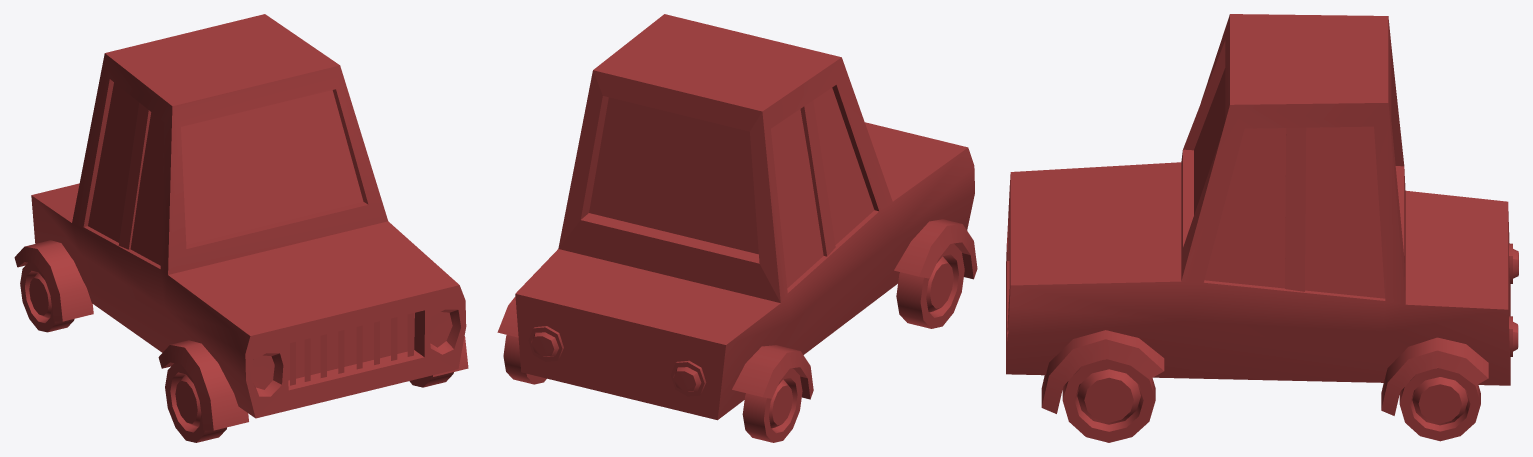
Rendered from Toy_Car03_001.fbx.
The picture shows the model from 3 angles, left to right: view 1: azimuth 30°, elevation 25°; view 2: azimuth 150°, elevation 25°; view 3: azimuth 270°, elevation 25°; orthographic projection. The views are drawn at different scales.
Visible parts, largest first — view 1: Toy_Car03_001; view 2: Toy_Car03_001; view 3: Toy_Car03_001.
Boxes of the visible parts, bbox=[...] form: Toy_Car03_001: bbox=[14, 14, 468, 442]; Toy_Car03_001: bbox=[497, 14, 977, 442]; Toy_Car03_001: bbox=[1006, 14, 1518, 442].
Bounding box in the file's own units: 39.63 × 41.19 × 60.61.
